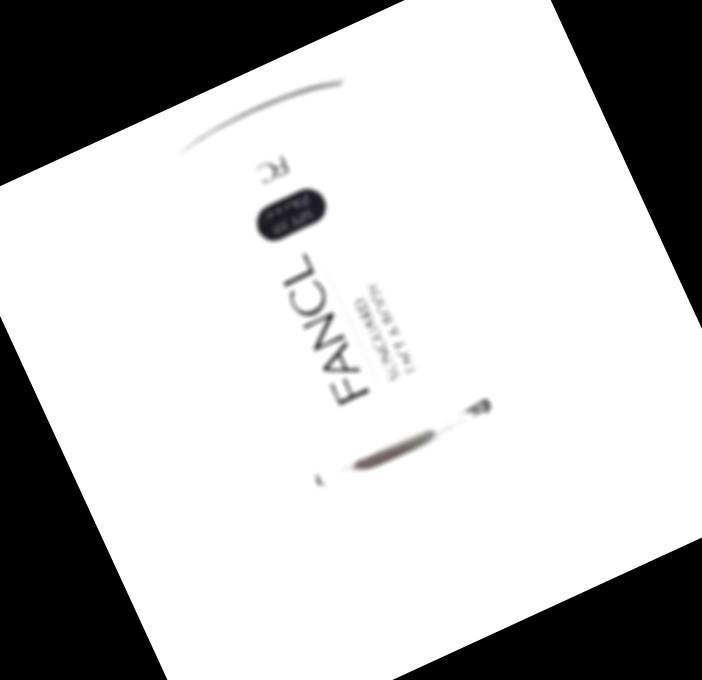cosmetic: (152, 66, 553, 603)
